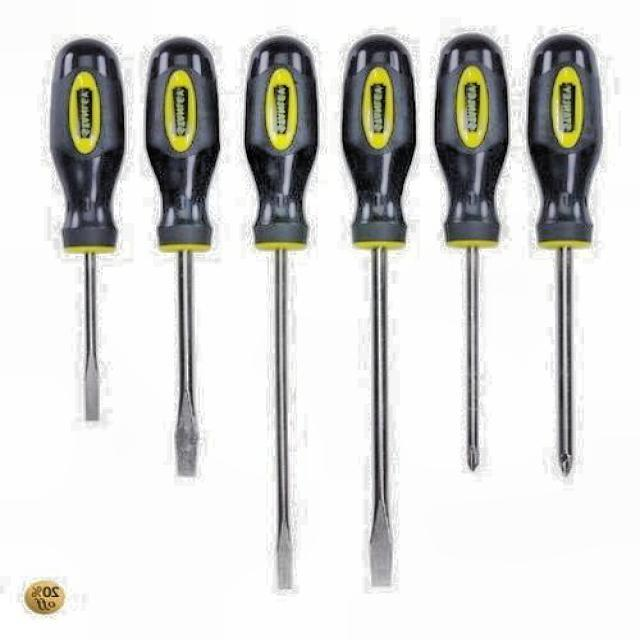screwdriver: (243, 35, 319, 591), (342, 34, 418, 586), (528, 33, 604, 477), (434, 32, 510, 472), (144, 36, 220, 475), (49, 36, 126, 424)
